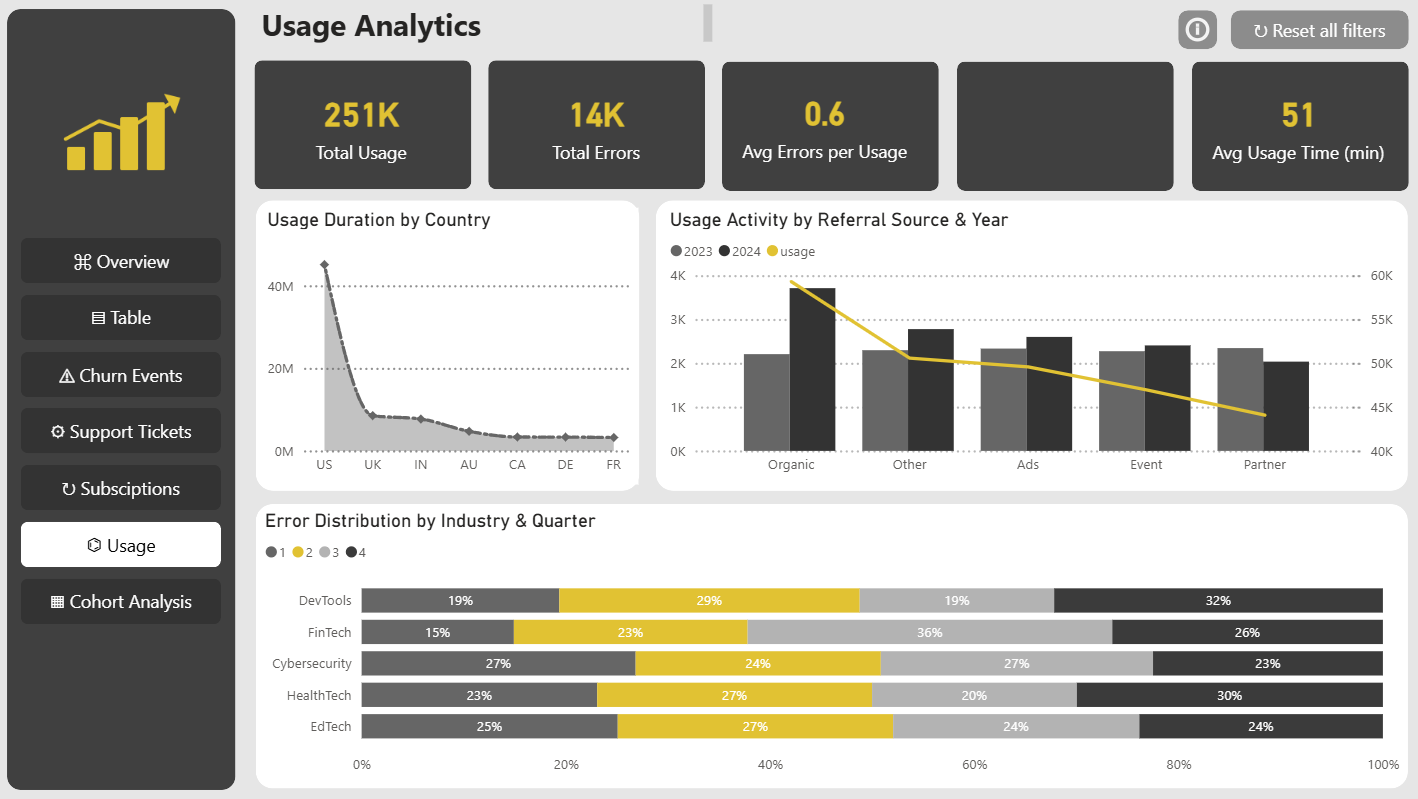

Layout of this report page (visuals, bound fields, positions):
{"tool":"powerbi","page":{"name":"⌬ Usage","canvas":[1280,720],"ordinal":5},"visuals":[{"type":"image","box":[0,0,1278.3,720],"z":0},{"type":"shape","box":[0,0,223.3,720],"z":1000},{"type":"shape","box":[854.3,47.1,212.9,134.3],"z":2000},{"type":"shape","box":[642.9,47.1,212.9,134.3],"z":3000},{"type":"shape","box":[1065.7,47.1,212.9,134.3],"z":4000},{"type":"shape","box":[592.5,181.2,676.2,261.2],"z":5000},{"type":"shape","box":[232.5,181.2,345,261.2],"z":6000},{"type":"shape","box":[232.9,454.3,1035.7,255.7],"z":7000},{"type":"shape","box":[222.9,45.7,213,134],"z":8000},{"type":"shape","box":[432.9,45.7,212.9,134],"z":9000},{"type":"card","fields":{"Values":["Sum(public feature_usage.error_count)"]},"box":[443.8,50,190,125],"z":10000},{"type":"lineClusteredColumnComboChart","title":"Usage Activity by Referral Source & Year","fields":{"Category":["public accounts.referral_source"],"Y":["CountNonNull(public feature_usage.usage_id)"],"Series":["date.Year"],"Y2":["Sum(public feature_usage.usage_count)"]},"box":[600,187.5,660,248.8],"z":11000},{"type":"hundredPercentStackedBarChart","title":"Error Distribution by Industry & Quarter","fields":{"Category":["public accounts.industry"],"Y":["Sum(public feature_usage.error_count)"],"Series":["date.Quarter"]},"box":[236.2,458.8,1030,247.5],"z":12000},{"type":"pageNavigator","box":[21.2,215,180,350],"z":14000},{"type":"textbox","box":[232.9,0,415.7,44.3],"z":15000},{"type":"actionButton","box":[1062,10,35,35],"z":16000},{"type":"actionButton","title":"d","box":[1108.8,10,160,35],"z":17000},{"type":"card","fields":{"Values":["Avg(public feature_usage.error_count)"]},"box":[640,52.5,207.5,118.8],"z":18000},{"type":"card","fields":{"Values":["public feature_usage.Avg Usage time(min)"]},"box":[1066.2,52.5,207.5,120],"z":19000},{"type":"card","fields":{"Values":["Sum(public feature_usage.usage_count)"]},"box":[232.5,50,190,125],"z":20000},{"type":"stackedAreaChart","title":"Usage Duration by Country","fields":{"Category":["public accounts.country"],"Y":["Sum(public feature_usage.usage_duration_secs)"]},"box":[238.8,187.5,338.8,248.8],"z":21000},{"type":"image","box":[0,74,238.6,110],"z":22000}]}

Visuals, with their boxes in screenshot pixels (x1, y1, x2, y2), scaled from the page's 1280x720 canvas onto the 1418x799 screenshot:
image: box(0, 0, 1416, 798)
shape: box(0, 0, 247, 798)
shape: box(946, 52, 1182, 201)
shape: box(712, 52, 948, 201)
shape: box(1181, 52, 1416, 201)
shape: box(656, 201, 1405, 491)
shape: box(258, 201, 640, 491)
shape: box(258, 504, 1405, 788)
shape: box(247, 51, 483, 199)
shape: box(480, 51, 715, 199)
card - Sum(public feature_usage.error_count): box(492, 55, 702, 194)
"Usage Activity by Referral Source & Year" lineClusteredColumnComboChart: box(665, 208, 1396, 484)
"Error Distribution by Industry & Quarter" hundredPercentStackedBarChart: box(262, 509, 1403, 784)
pageNavigator: box(23, 239, 223, 627)
textbox: box(258, 0, 719, 49)
actionButton: box(1176, 11, 1215, 50)
"d" actionButton: box(1228, 11, 1406, 50)
card - Avg(public feature_usage.error_count): box(709, 58, 939, 190)
card - public feature_usage.Avg Usage time(min): box(1181, 58, 1411, 191)
card - Sum(public feature_usage.usage_count): box(258, 55, 468, 194)
"Usage Duration by Country" stackedAreaChart: box(265, 208, 640, 484)
image: box(0, 82, 264, 204)
